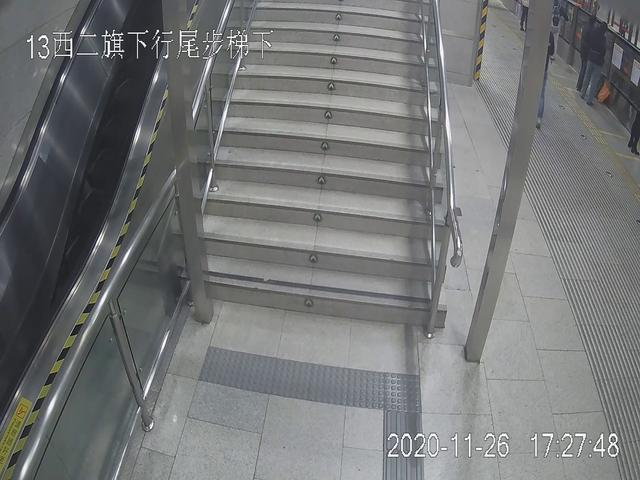person: (581, 23, 607, 101)
